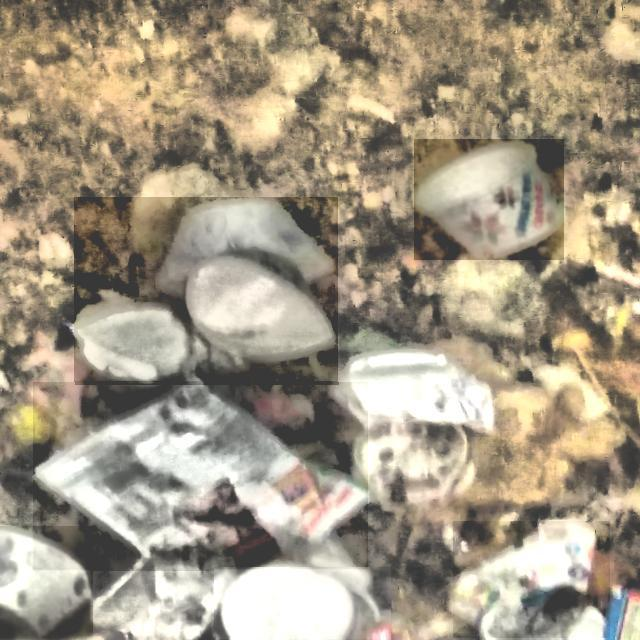anorganik: (33, 382, 368, 571), (75, 198, 337, 384), (453, 521, 610, 639), (414, 140, 564, 260), (214, 567, 391, 638), (0, 527, 93, 639)
